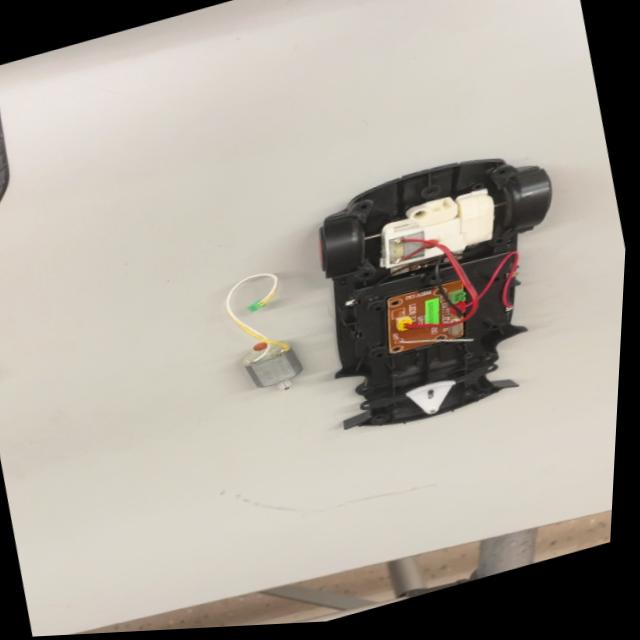Chassis: (282, 134, 598, 450)
motor: (213, 261, 320, 410)
